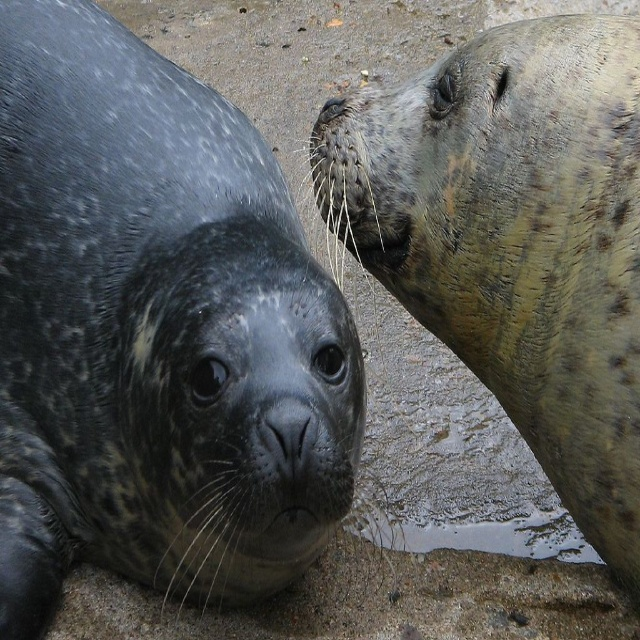Harbor seal: (0, 0, 401, 639), (293, 14, 638, 606)
